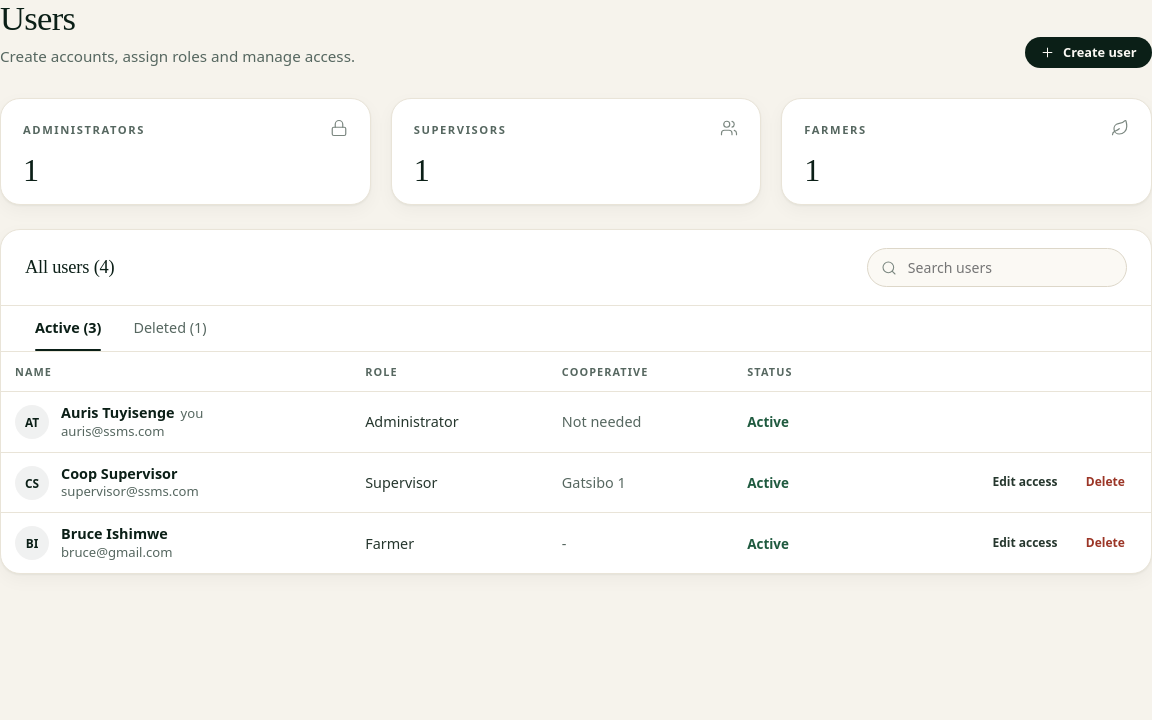
Test case: Users page › Edit access › opens a dialog with the current role and cooperative, and cannot save until something changes
This screenshot has width=1152, height=720.
Click the button with aria-label "Edit access for Bruce Ishimwe".
click(1025, 543)  # box [980, 531, 1070, 556]
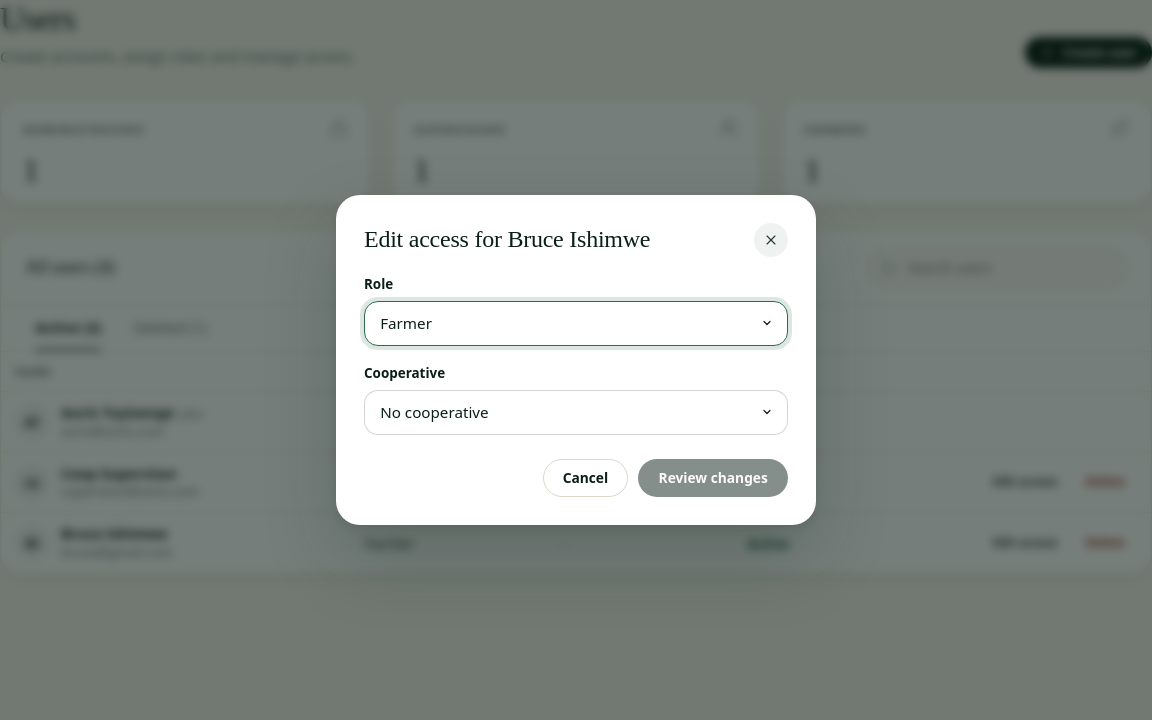
Check: the dropdown labelled "Role" shows "Farmer", box [364, 301, 788, 346]
Check: the dropdown labelled "Cooperative" shows "No cooperative", box [364, 390, 788, 435]
Check: the button "Review changes" is disabled, box [638, 459, 788, 497]
